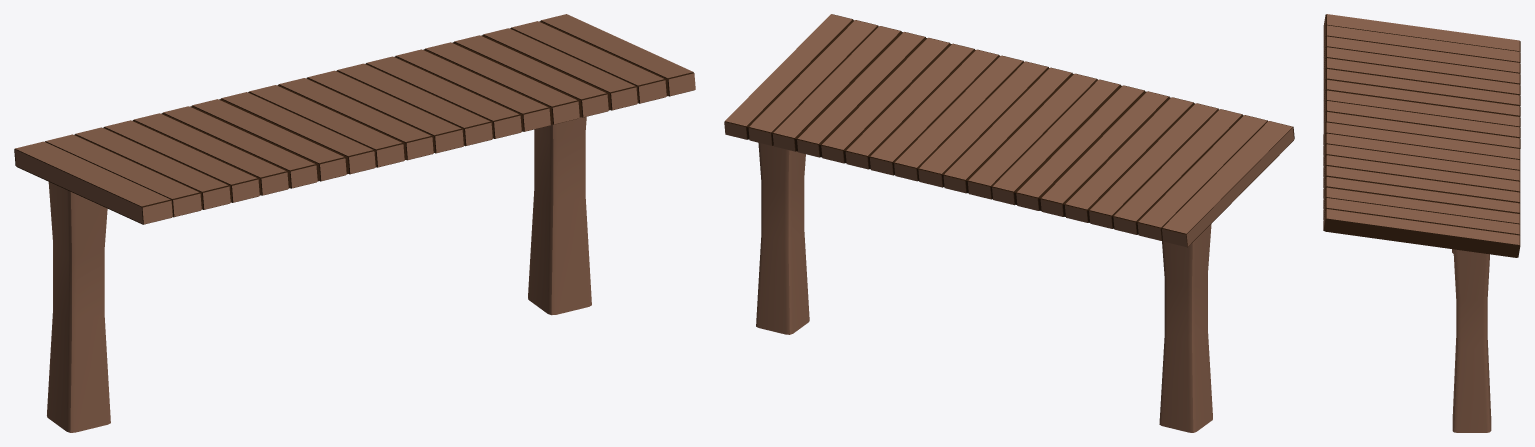
The model's file is WoodenGazeebo.fbx.
3 views of the same model, side by side, from view 1: azimuth 30°, elevation 25°; view 2: azimuth 150°, elevation 25°; view 3: azimuth 270°, elevation 25° (orthographic). The views are drawn at different scales.
Visible parts, largest first — view 1: polySurface55, pasted__polySurface55, pCube2, pasted__pCube3; view 2: polySurface55, pasted__polySurface55, pCube2, pasted__pCube3; view 3: pasted__polySurface55, polySurface55, pasted__pCube3.
Boxes of the visible parts, x1,y1,x2,y2 form: polySurface55: (14, 78, 433, 224); pasted__polySurface55: (306, 14, 695, 153); pCube2: (47, 182, 110, 432); pasted__pCube3: (528, 117, 591, 315); polySurface55: (943, 67, 1294, 247); pasted__polySurface55: (724, 14, 1049, 187); pCube2: (1159, 224, 1212, 432); pasted__pCube3: (756, 142, 809, 334); pasted__polySurface55: (1323, 122, 1520, 257); polySurface55: (1323, 14, 1520, 149); pasted__pCube3: (1452, 249, 1491, 432).
Bounding box in the file's own units: 374 × 188 × 152.
